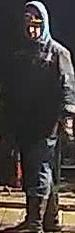gloves: (59, 107, 75, 146)
vest: (4, 42, 66, 144)
